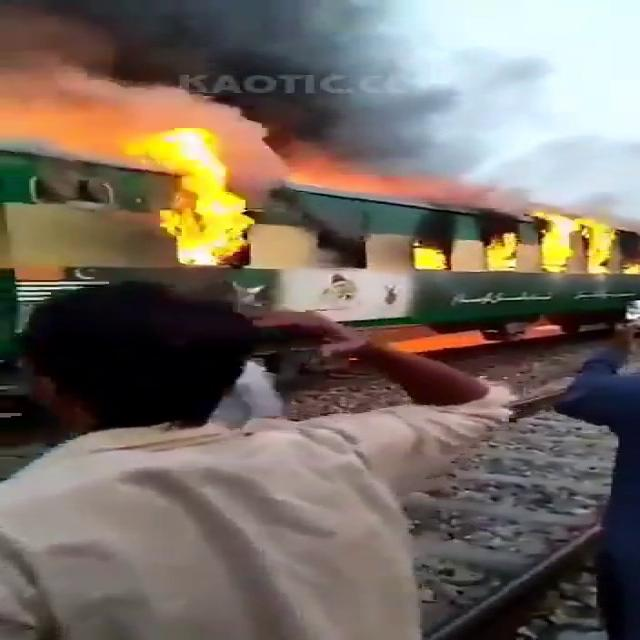Fire: (125, 128, 255, 270), (542, 213, 640, 277), (480, 230, 522, 273), (411, 241, 453, 277)
Smoke: (116, 16, 640, 221)
